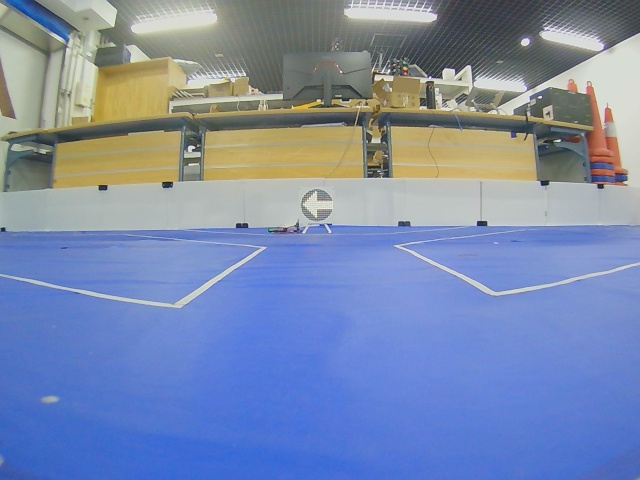left_yellow: (301, 189, 334, 222)
